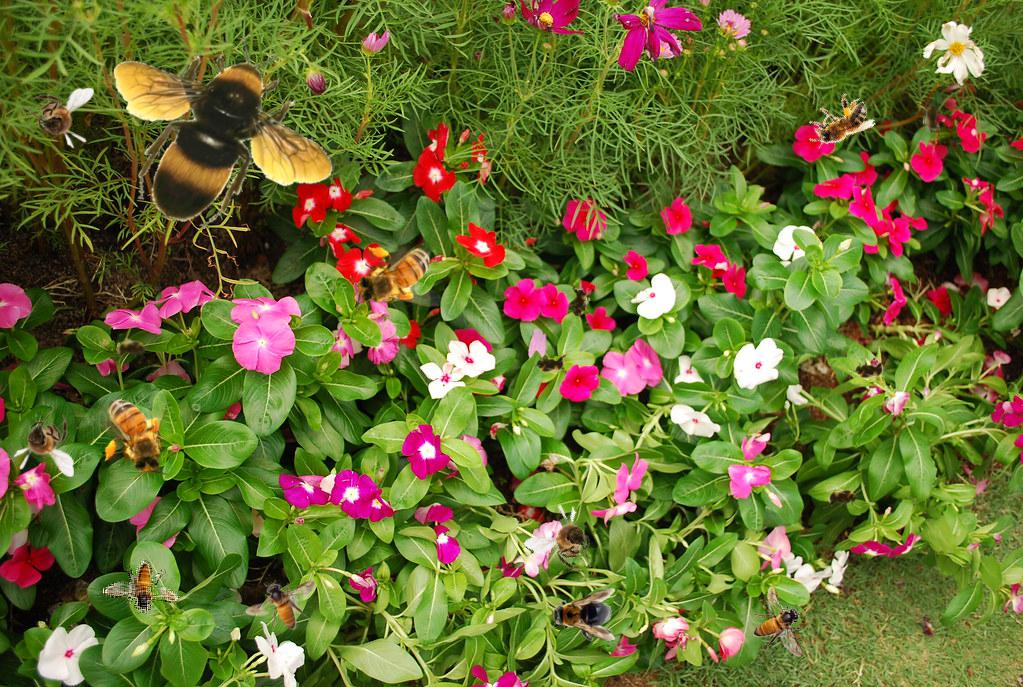Bee: (114, 38, 334, 229), (522, 494, 615, 584), (100, 385, 172, 482), (101, 549, 189, 628), (350, 243, 443, 311), (798, 86, 878, 161), (24, 88, 94, 149), (13, 407, 74, 477), (546, 588, 618, 644), (245, 580, 316, 630), (753, 586, 803, 657), (564, 281, 594, 325), (849, 359, 889, 381), (922, 97, 944, 137), (823, 487, 863, 509), (112, 338, 152, 360), (530, 353, 570, 375)
